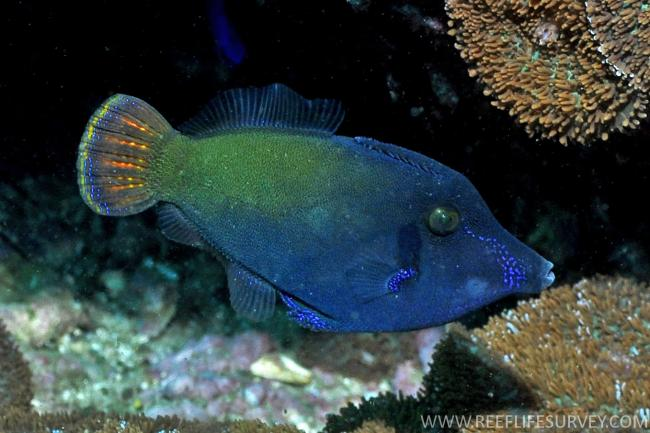fish: (76, 84, 556, 334)
